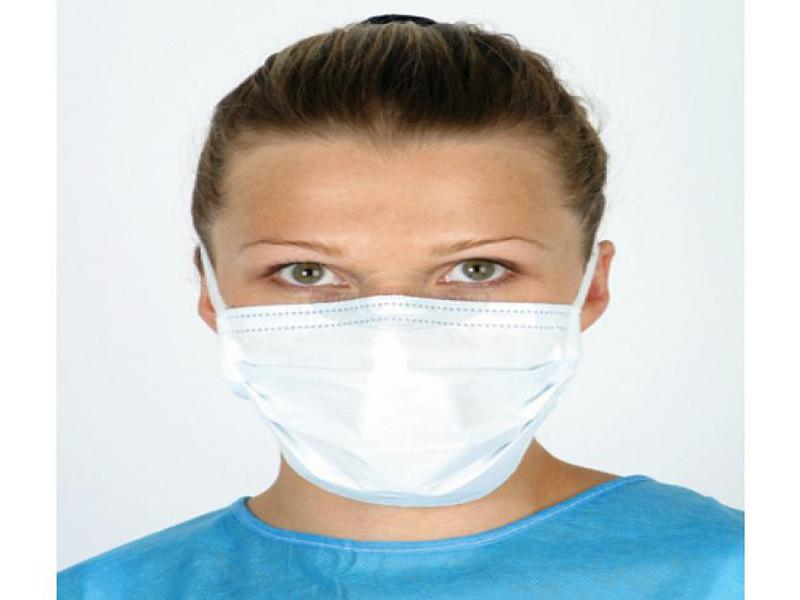with_mask: (203, 133, 590, 505)
